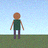person: (10, 12, 24, 39)
